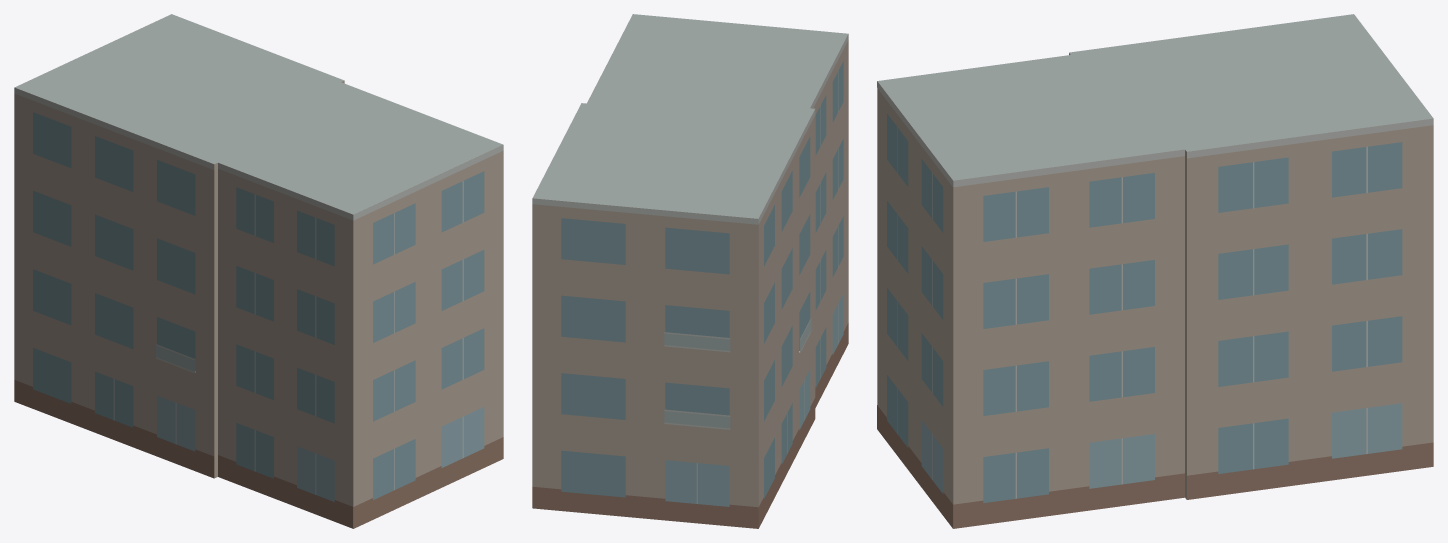
The model's file is survey-upis-32613496.glb.
3 renders of one model, left to right at view 1: azimuth 30°, elevation 25°; view 2: azimuth 150°, elevation 25°; view 3: azimuth 270°, elevation 25°, orthographic. The views are drawn at different scales.
Parts seen in each view (by area): view 1: survey-upis-32613496.tmp; view 2: survey-upis-32613496.tmp; view 3: survey-upis-32613496.tmp.
Boxes of the visible parts, x1,y1,x2,y2 form: survey-upis-32613496.tmp: (14,14,503,528); survey-upis-32613496.tmp: (532,14,848,528); survey-upis-32613496.tmp: (877,14,1433,528).
Bounding box in the file's own units: 13.26 × 12.9 × 18.7.
